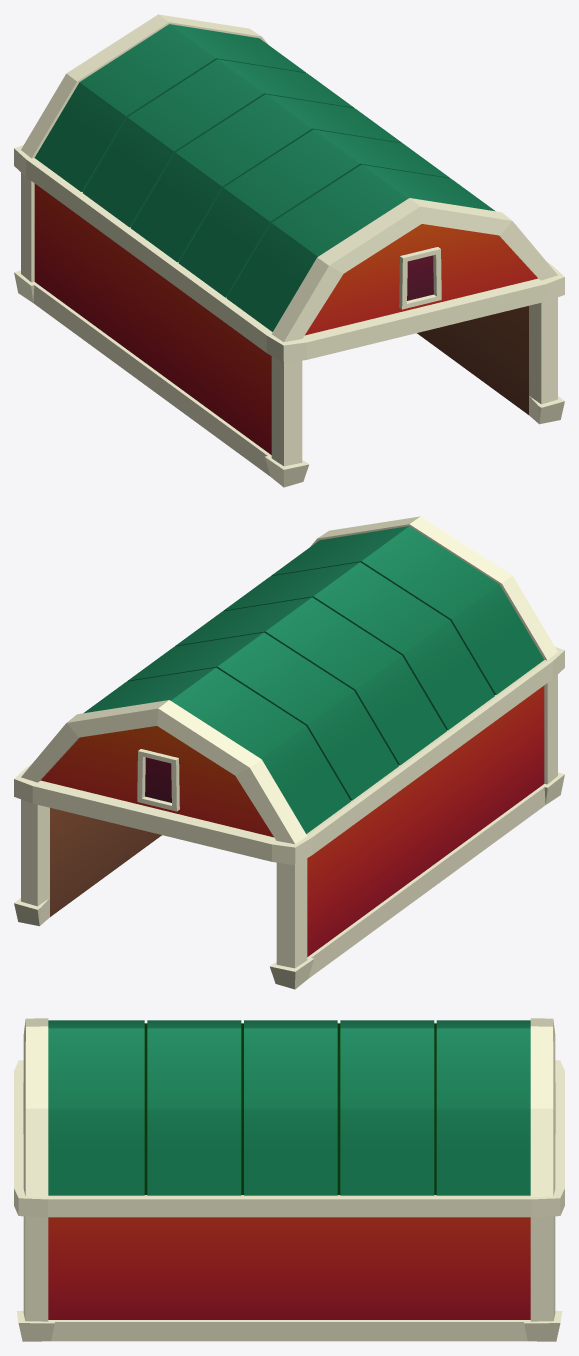
Rendered from Barn.fbx.
3 renders of one model, top to bottom at view 1: azimuth 30°, elevation 25°; view 2: azimuth 150°, elevation 25°; view 3: azimuth 270°, elevation 25°, orthographic.
Visible parts, largest first — view 1: Barn; view 2: Barn; view 3: Barn.
Boxes of the visible parts, left/top/right/bottom form: Barn: left=14, top=14, right=564, bottom=487; Barn: left=14, top=516, right=564, bottom=989; Barn: left=14, top=1018, right=564, bottom=1341.
Size of the model in its own units: 3.09 by 2.55 by 5.14.
